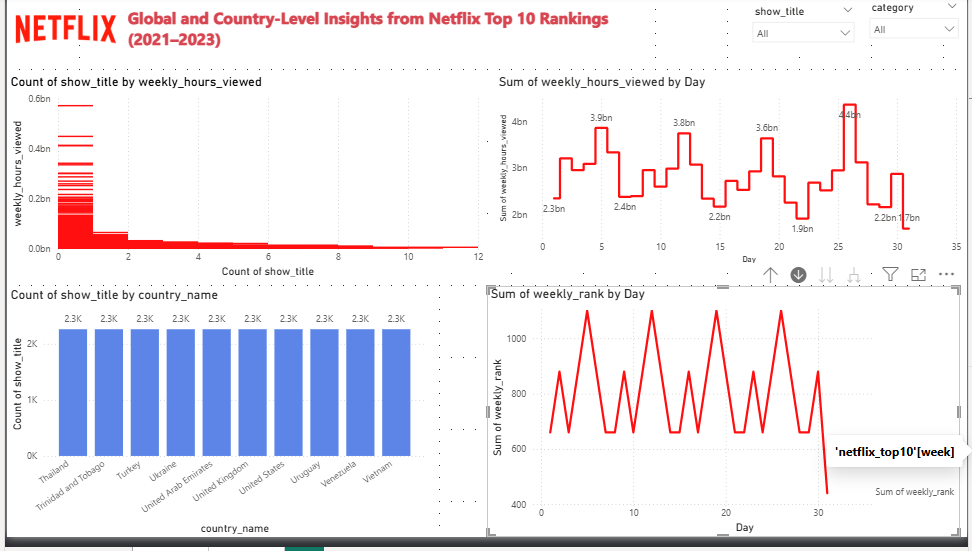

The page's visual inventory and layout, read from the dashboard file:
{"tool":"powerbi","page":{"name":"Page 1","canvas":[1280,720],"ordinal":0},"visuals":[{"type":"barChart","fields":{"Y":["CountNonNull(netflix_top10.show_title)"],"Category":["netflix_top10.weekly_hours_viewed"]},"box":[0,102.5,640,275.5],"z":0},{"type":"textbox","box":[156.2,8.4,661.8,77.3],"z":1000},{"type":"image","box":[0,0,156.2,85.7],"z":2000},{"type":"slicer","fields":{"Values":["netflix_top10.category"]},"box":[1140.6,0,139.4,58.8],"z":3000},{"type":"lineChart","fields":{"Category":["netflix_top10.week.Variation.Date Hierarchy.Year","netflix_top10.week.Variation.Date Hierarchy.Quarter","netflix_top10.week.Variation.Date Hierarchy.Month","netflix_top10.week.Variation.Date Hierarchy.Day"],"Y":["Sum(netflix_top10.weekly_hours_viewed)"]},"box":[650.1,102.5,629.9,257],"z":3001},{"type":"slicer","fields":{"Values":["netflix_top10.show_title"]},"box":[984.4,5,156.2,65.5],"z":3002},{"type":"columnChart","fields":{"Category":["netflix_top10_country.country_name"],"Y":["CountNonNull(netflix_top10_country.show_title)"]},"box":[0,386.4,562.7,334.3],"z":3003},{"type":"lineChart","fields":{"Category":["netflix_top10.week.Variation.Date Hierarchy.Year","netflix_top10.week.Variation.Date Hierarchy.Quarter","netflix_top10.week.Variation.Date Hierarchy.Month","netflix_top10.week.Variation.Date Hierarchy.Day"],"Y":["Sum(netflix_top10.weekly_rank)"]},"box":[639.4,385.9,630.7,334.1],"z":3004}]}

Visuals, with their boxes on the page's 1280x720 design canvas (x1, y1, x2, y2). These are canvas units, not pixel positions in the 972x551 screenshot, which may show the page scaled, cropped or inside an application window:
barChart - CountNonNull(netflix_top10.show_title) x netflix_top10.weekly_hours_viewed: (0,102,640,378)
textbox: (156,8,818,86)
image: (0,0,156,86)
slicer - netflix_top10.category: (1141,0,1280,59)
lineChart - netflix_top10.week.Variation.Date Hierarchy.Year x netflix_top10.week.Variation.Date Hierarchy.Quarter: (650,102,1280,360)
slicer - netflix_top10.show_title: (984,5,1141,70)
columnChart - netflix_top10_country.country_name x CountNonNull(netflix_top10_country.show_title): (0,386,563,721)
lineChart - netflix_top10.week.Variation.Date Hierarchy.Year x netflix_top10.week.Variation.Date Hierarchy.Quarter: (639,386,1270,720)
